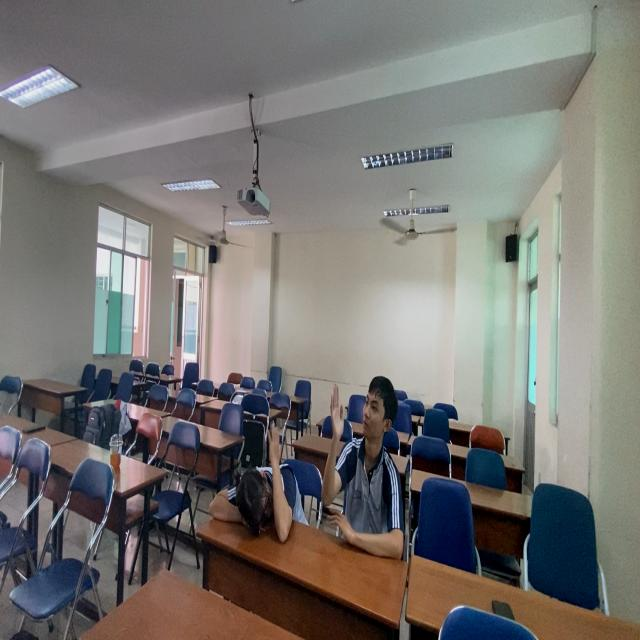raise_hand: (320, 373, 414, 559)
sleep: (205, 451, 309, 543)
